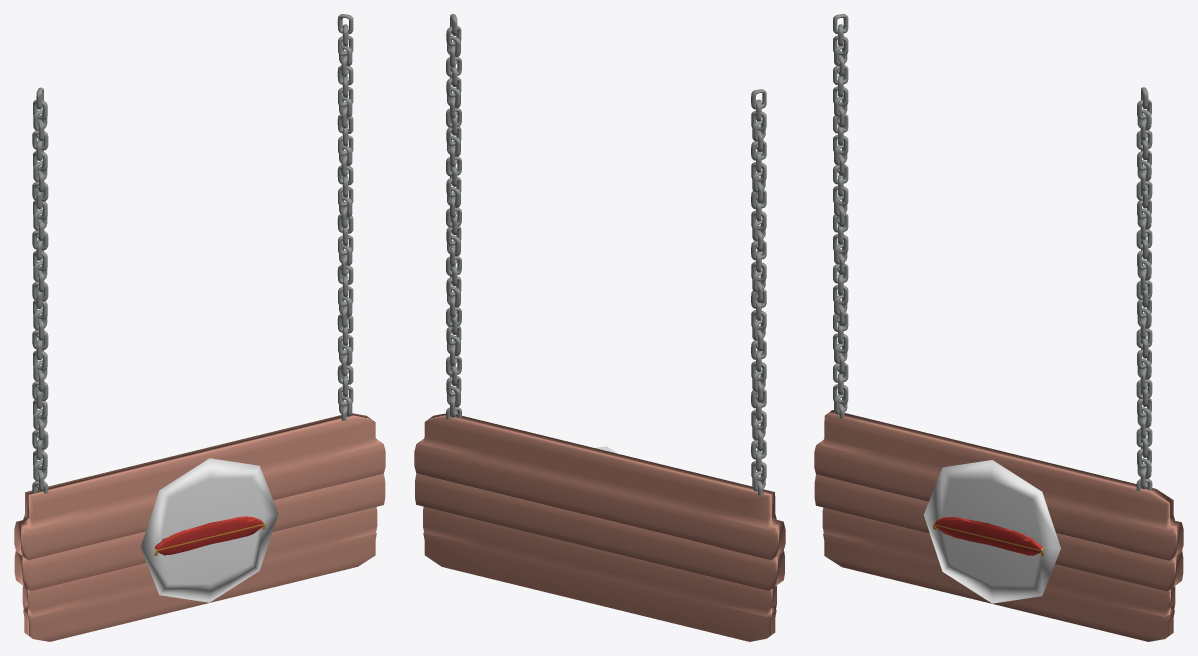
The model's file is PancarteBouclier.fbx.
The picture shows the model from 3 angles, left to right: view 1: azimuth 30°, elevation 25°; view 2: azimuth 150°, elevation 25°; view 3: azimuth 330°, elevation 25°; orthographic projection.
Parts seen in each view (by area): view 1: Cube.025; view 2: Cube.025; view 3: Cube.025.
Part boxes in pixels (x1,y1,x2,y2): Cube.025: [14, 14, 385, 641]; Cube.025: [414, 14, 785, 641]; Cube.025: [814, 14, 1183, 641].
Bounding box in the file's own units: 345 × 508 × 33.05.
